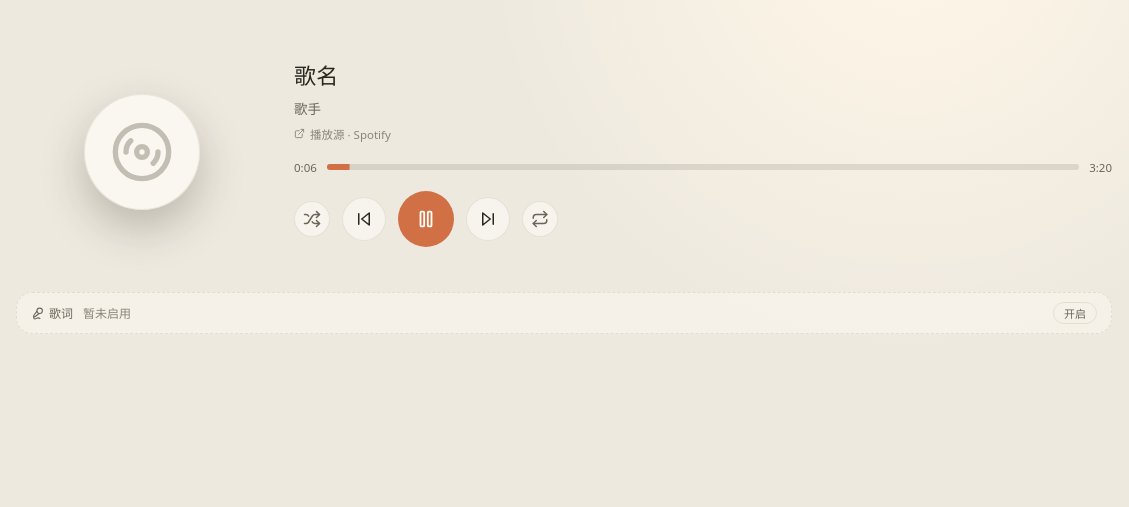
it: MusicImmersive · 歌词链路 › 默认关闭；开启后取词（artist/title/album/duration）并渲染行 + 译文
The width and height of the screenshot is (1129, 507).
Check: the text "第一句" is not shown
Click the button "开启".
click(1075, 313)  # box [1053,302,1097,324]
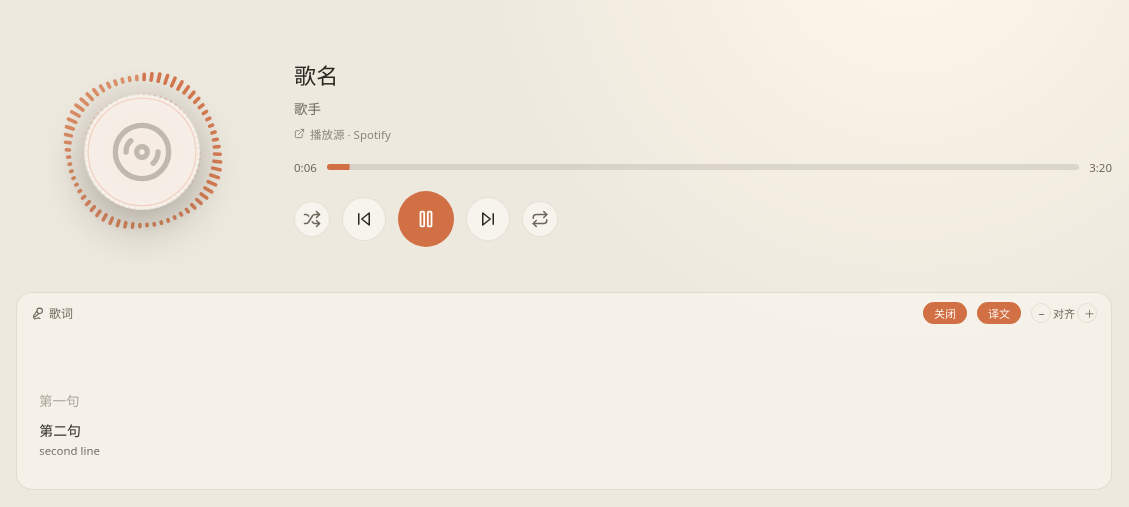
Check: the list item "第二句" is shown, box [39,421,81,440]
Check: the text "second line" is shown, box [39,442,100,458]
